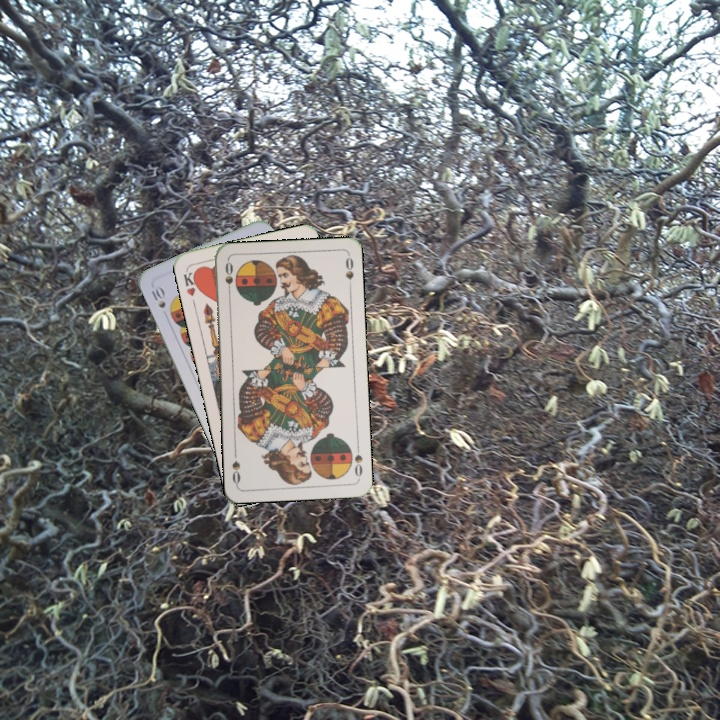HK: (180, 266, 202, 299)
S10: (147, 282, 168, 311)
SO: (221, 258, 236, 298), (351, 440, 365, 481)
